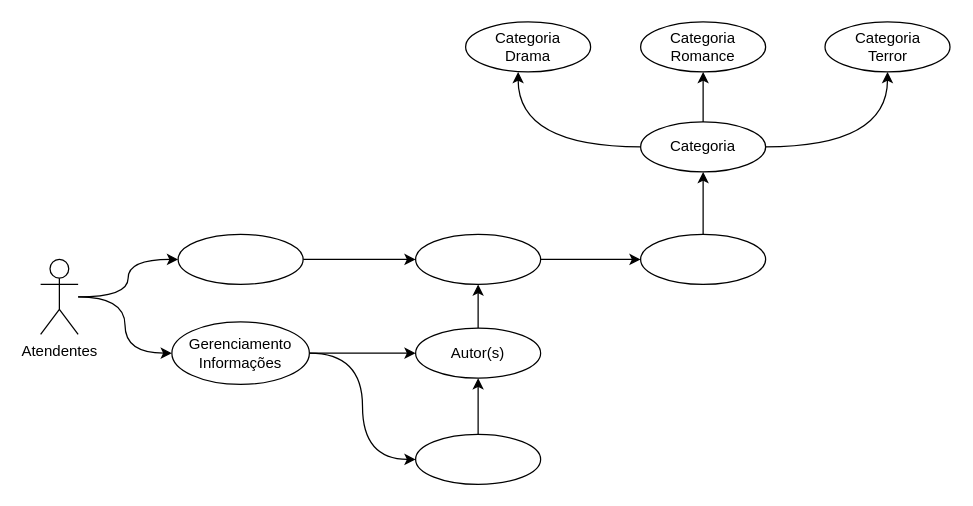
Some shapes in this 973 by 506 pixel diagram are drawn without their labels. The shapes that lost their labels are listed below. From the top down, each one's box as (x1, y1, x2, y2) in pixels, then its label:
(177, 233, 303, 284): Cadastro Livros
(414, 233, 541, 284): Livros
(639, 233, 766, 284): Estante
(414, 433, 541, 484): Editora(s)
